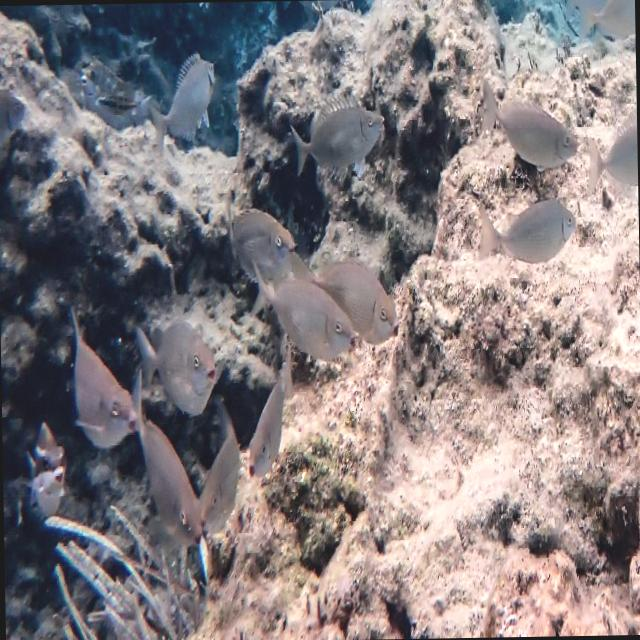Sokar Baligi: (478, 58, 583, 186), (286, 81, 388, 190), (468, 188, 586, 276), (144, 40, 224, 162)
